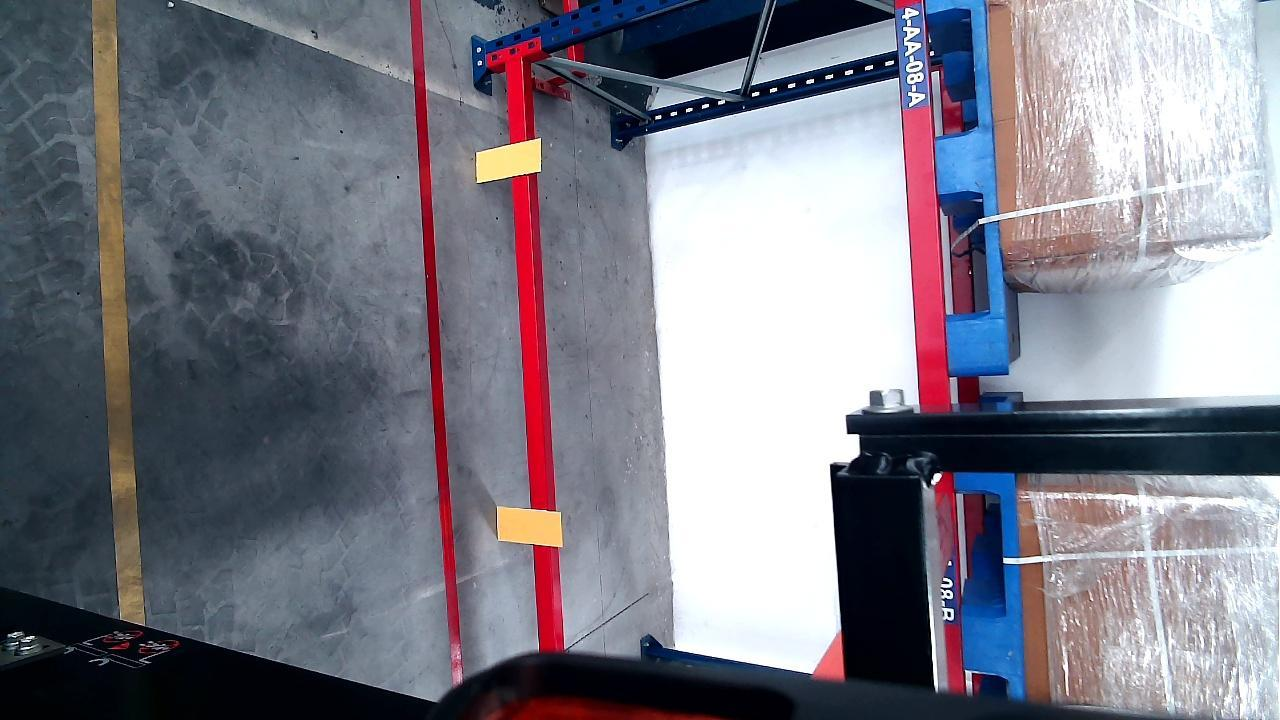red_line: (411, 1, 465, 689)
